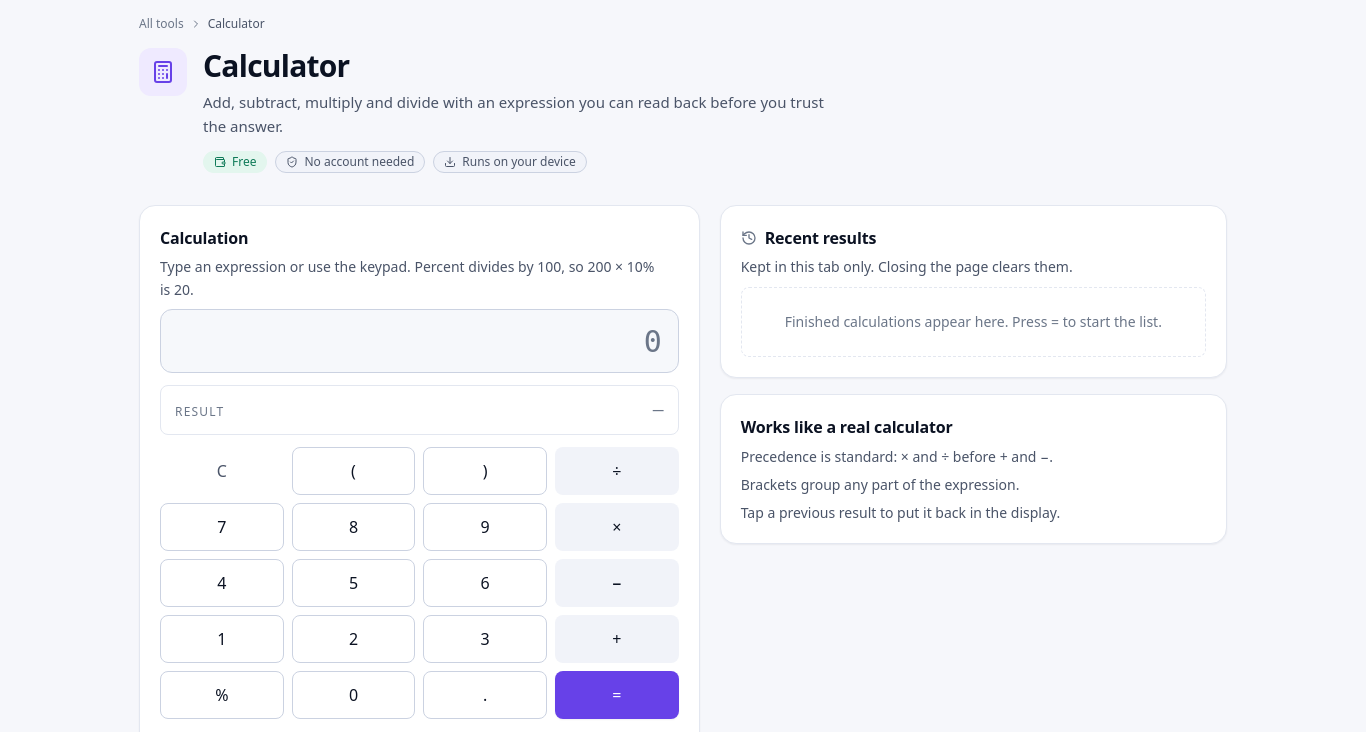
it: CalculatorPage › explains division by zero instead of showing Infinity
Type "5/0" into the field named "Calculation".
click(419, 341); type("5/0")  # box [160,309,679,373]
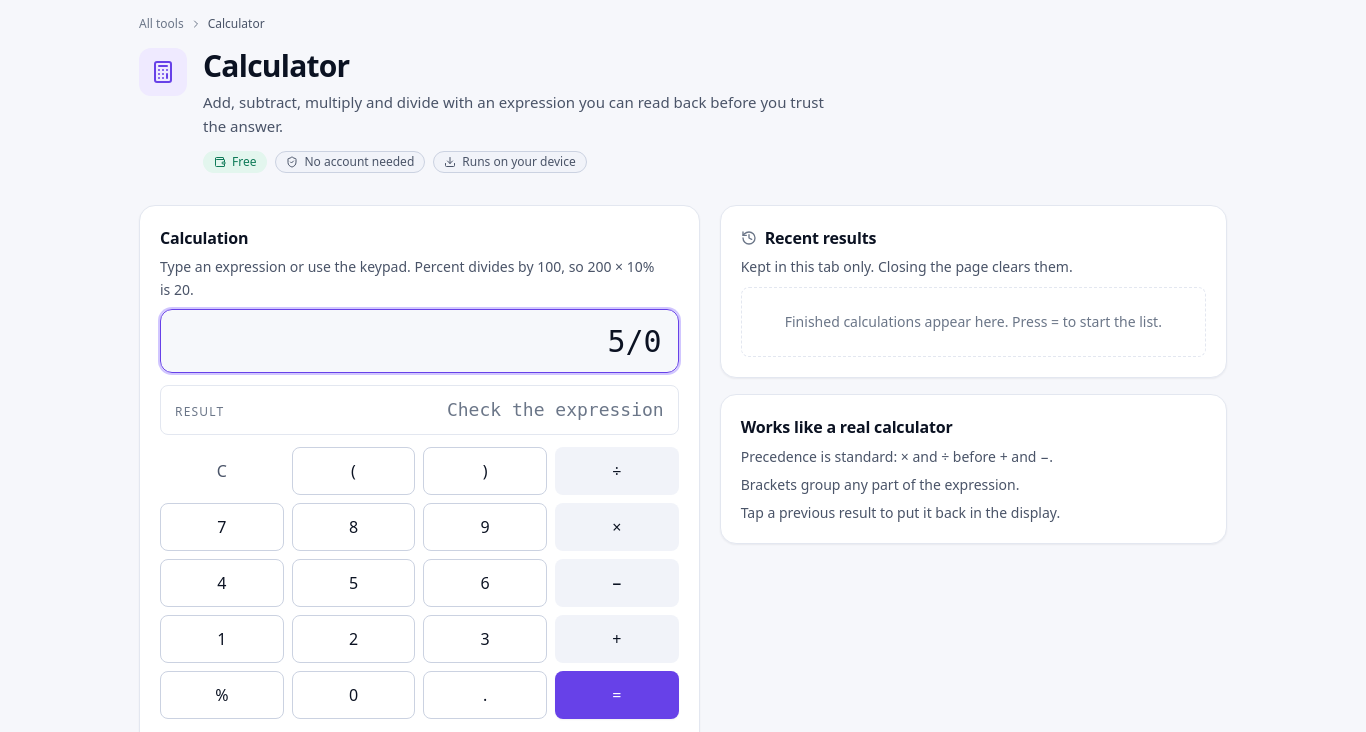
Click the button named "Equals".
click(617, 695)  # box [555,671,679,719]
(page scrolled)
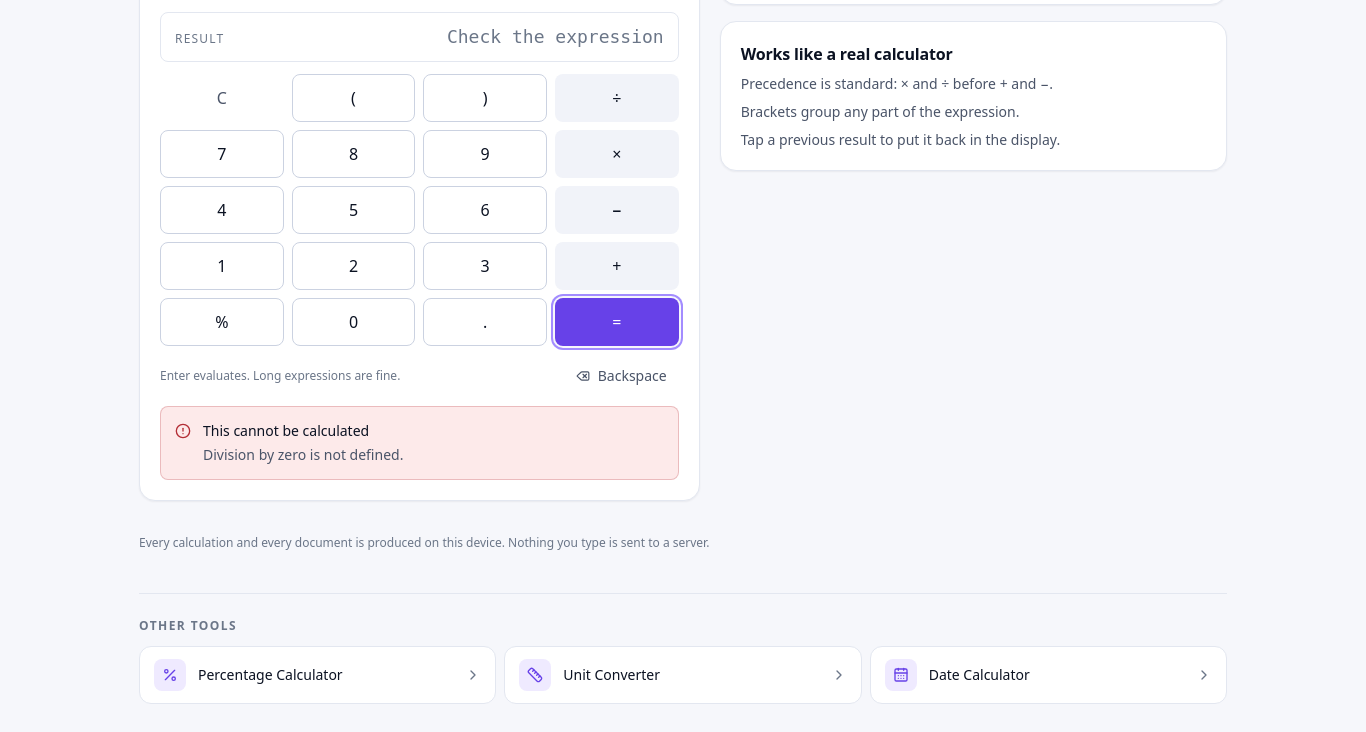
Expected: the text "Division by zero is not defined." is shown, [203,445,404,465]
